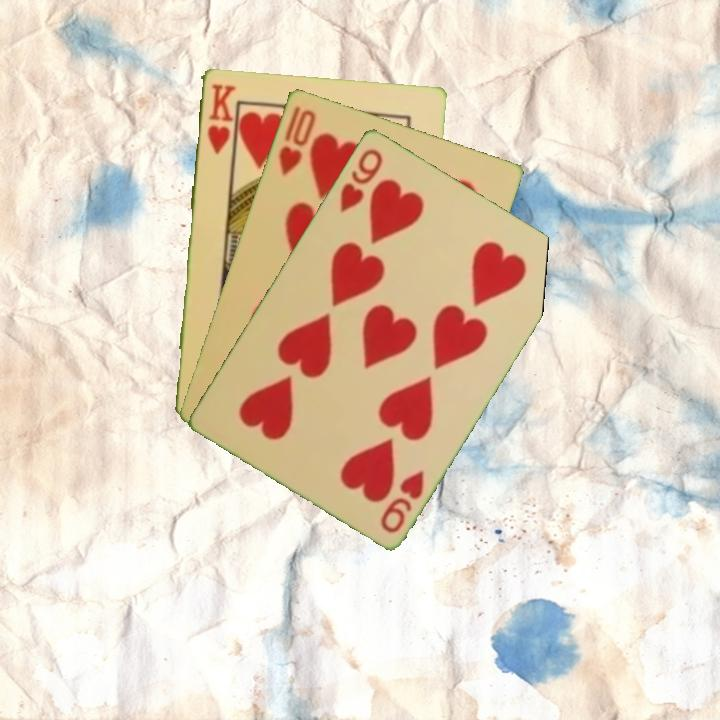10h: (274, 101, 319, 178)
9h: (376, 466, 427, 536), (336, 144, 386, 215)
Kh: (203, 80, 237, 156)
